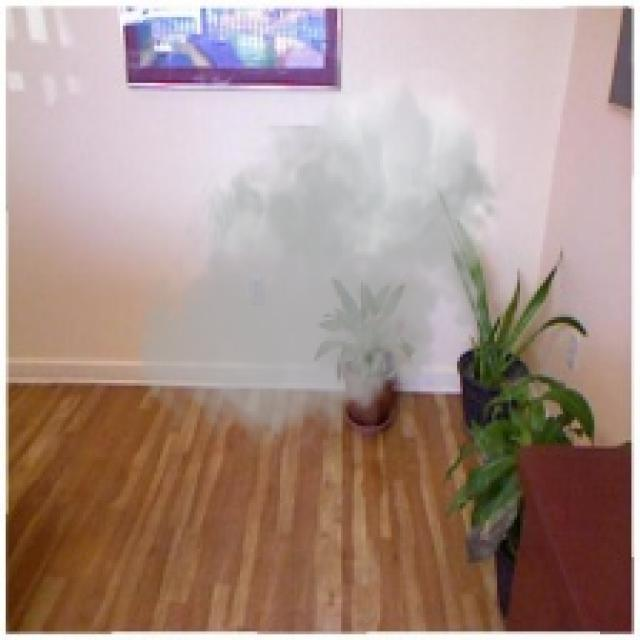Smoke: (128, 68, 512, 460)
